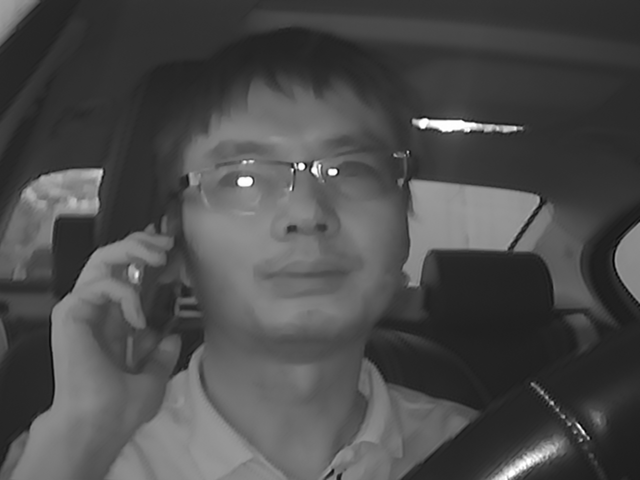hand: (50, 220, 191, 414)
